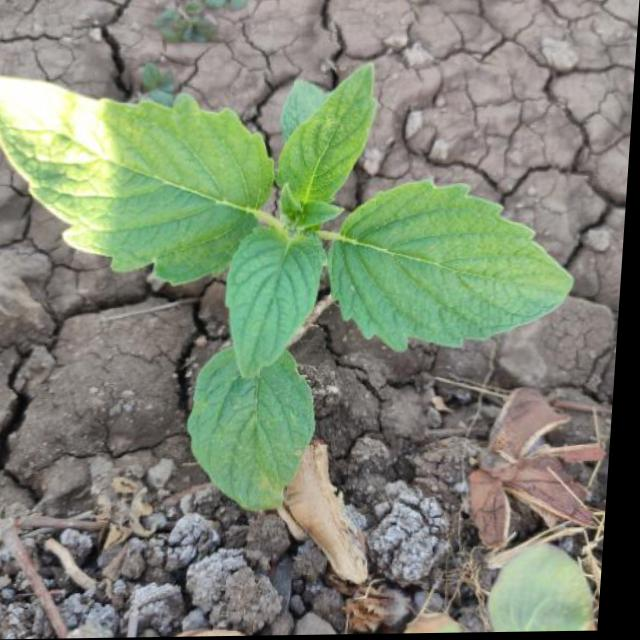crop: (0, 55, 602, 500)
